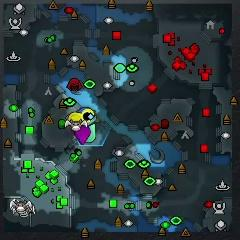p1: (78, 107, 89, 112)
p2: (85, 123, 96, 143)
p3: (74, 125, 91, 145)
p4: (69, 113, 83, 124)
p4Clone: (82, 110, 95, 122)
